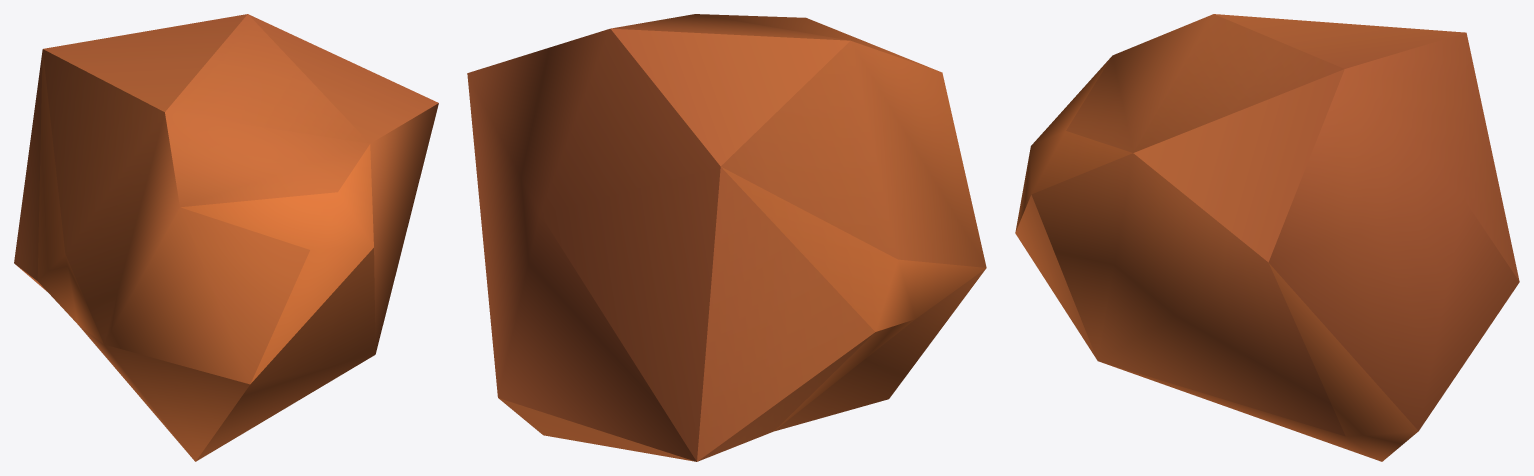
File: copper-nugget-small.glb
3 views of the same model, side by side, from view 1: azimuth 30°, elevation 25°; view 2: azimuth 150°, elevation 25°; view 3: azimuth 270°, elevation 25° (orthographic). The views are drawn at different scales.
Parts seen in each view (by area): view 1: Copper_Nugget_Small; view 2: Copper_Nugget_Small; view 3: Copper_Nugget_Small.
Part boxes in pixels (bbox=[...]): Copper_Nugget_Small: bbox=[14, 14, 438, 461]; Copper_Nugget_Small: bbox=[467, 14, 986, 461]; Copper_Nugget_Small: bbox=[1015, 14, 1519, 461].
Bounding box in the file's own units: 0.1411 × 0.1204 × 0.1461.
1 material, 1 textured.
